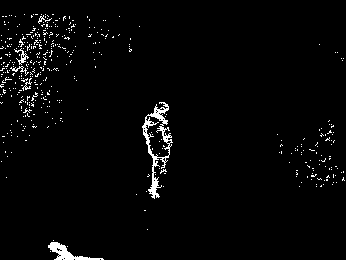person: (142, 100, 173, 201)
